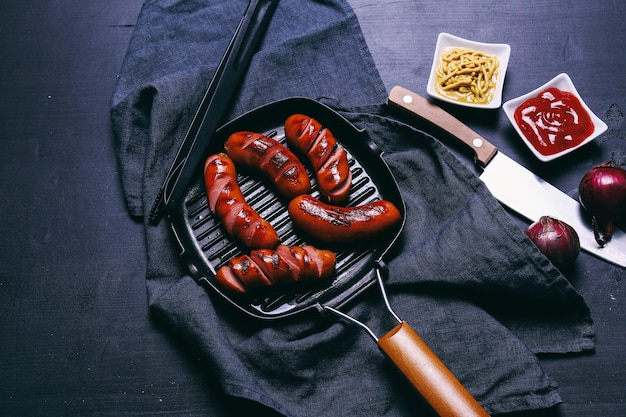knife: (386, 82, 626, 268)
